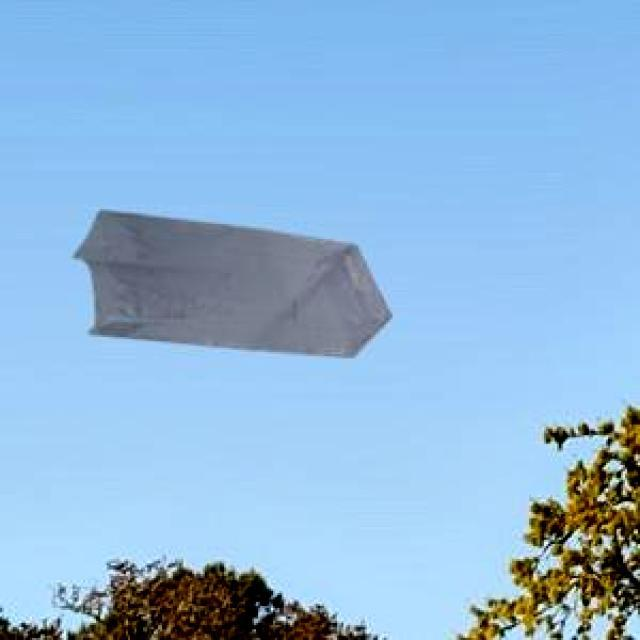Plastic_Bag: (71, 208, 388, 353)
